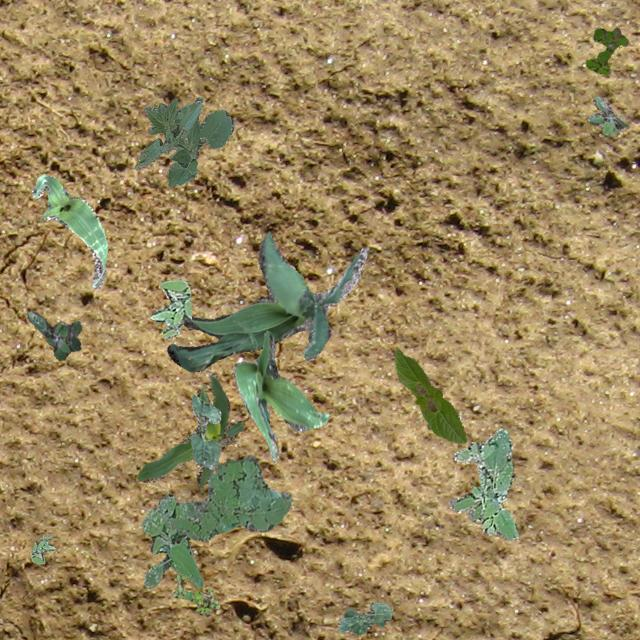crop: (166, 230, 368, 370), (232, 329, 328, 462), (136, 372, 242, 487), (134, 96, 232, 186), (30, 172, 106, 288), (394, 348, 466, 442), (188, 394, 220, 468), (336, 600, 391, 634)
weed: (168, 454, 292, 540), (448, 428, 518, 540), (140, 492, 202, 588), (26, 312, 80, 359), (150, 278, 190, 338), (584, 26, 626, 74), (172, 574, 218, 616), (588, 95, 628, 134), (30, 534, 54, 562)
